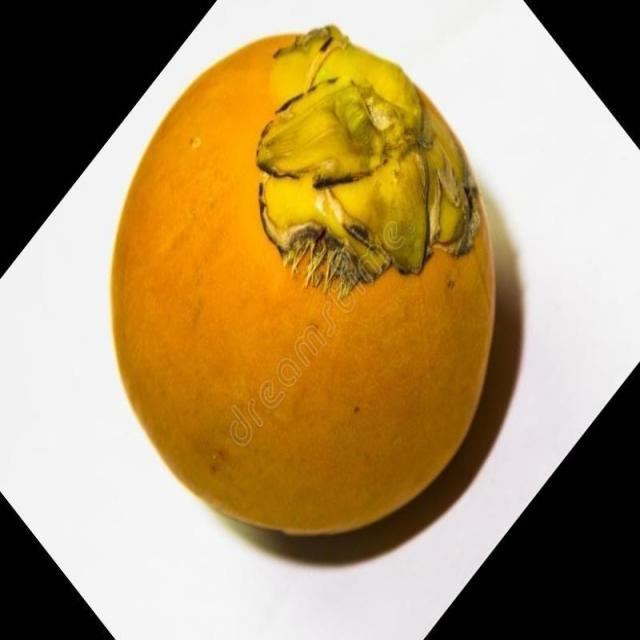good: (110, 25, 498, 541)
